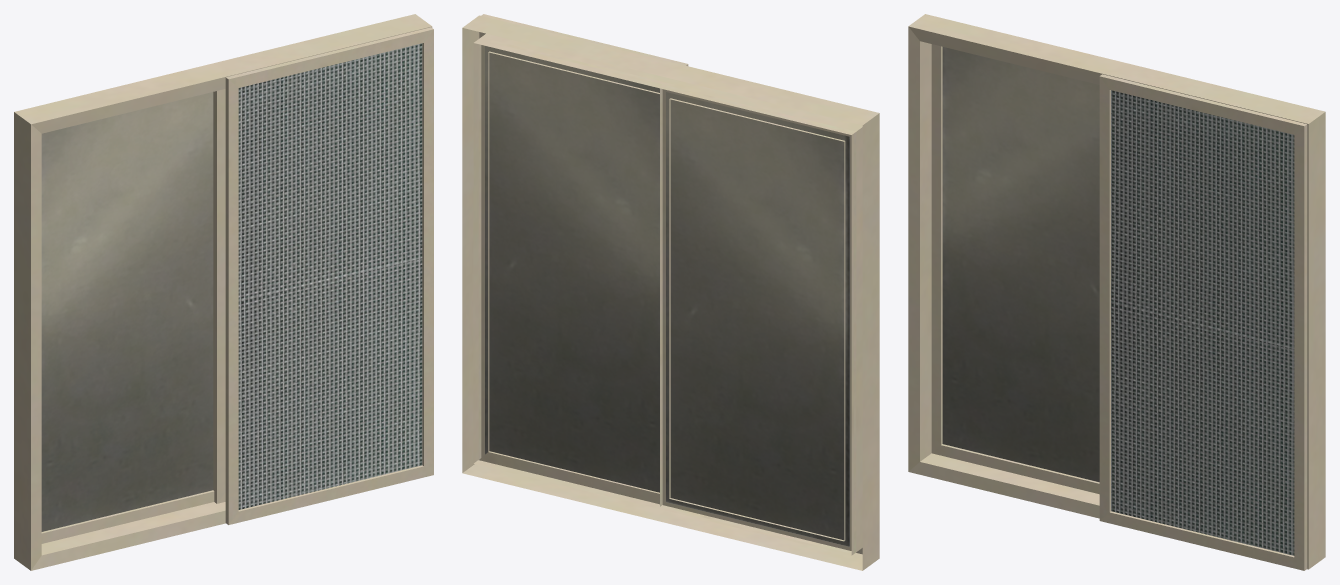
Rendered from Window_0.75m_006.fbx.
The picture shows the model from 3 angles, left to right: view 1: azimuth 30°, elevation 25°; view 2: azimuth 150°, elevation 25°; view 3: azimuth 330°, elevation 25°; orthographic projection.
Visible parts, largest first — view 1: Window_0.75m_006; view 2: Window_0.75m_006; view 3: Window_0.75m_006.
Boxes of the visible parts, box(x1,y1,x2,y2) form: Window_0.75m_006: box(14, 14, 433, 570); Window_0.75m_006: box(462, 14, 879, 570); Window_0.75m_006: box(908, 14, 1325, 570).
Bounding box in the file's own units: 70.52 × 75 × 6.09.
1 material, 1 textured.
